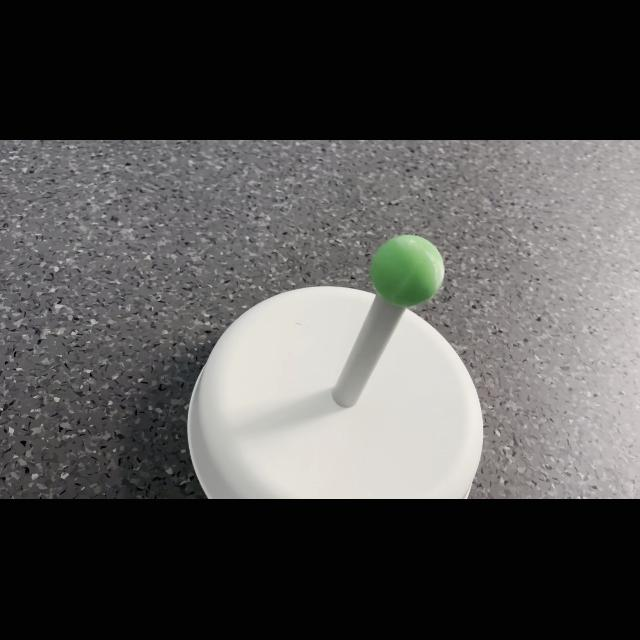objects: (362, 230, 452, 310)
